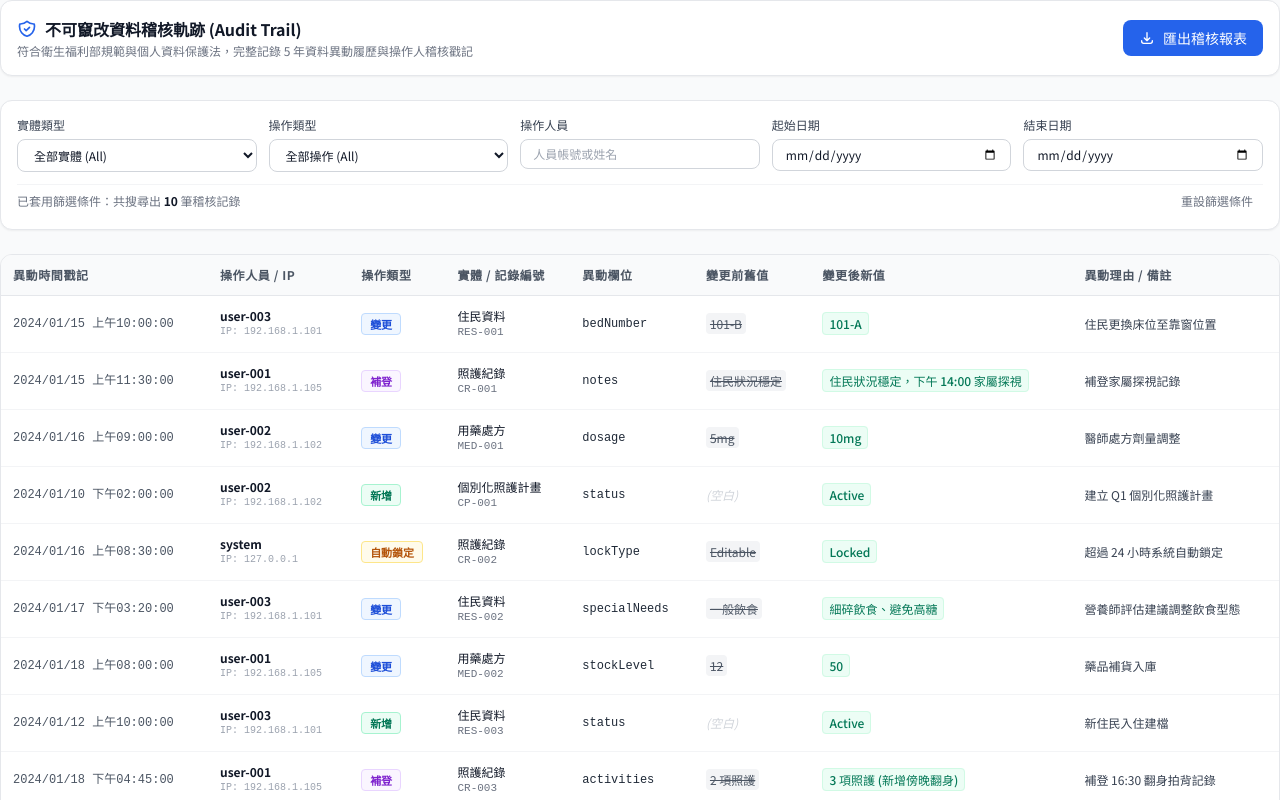
Test: AuditTrailView Integration Tests › filters audit trail entries by action type and resets filters
The width and height of the screenshot is (1280, 800).
Select "刪除 (Delete)" in the dropdown labelled "操作類型" at {"x": 388, "y": 156}, box [269,139,508,172]
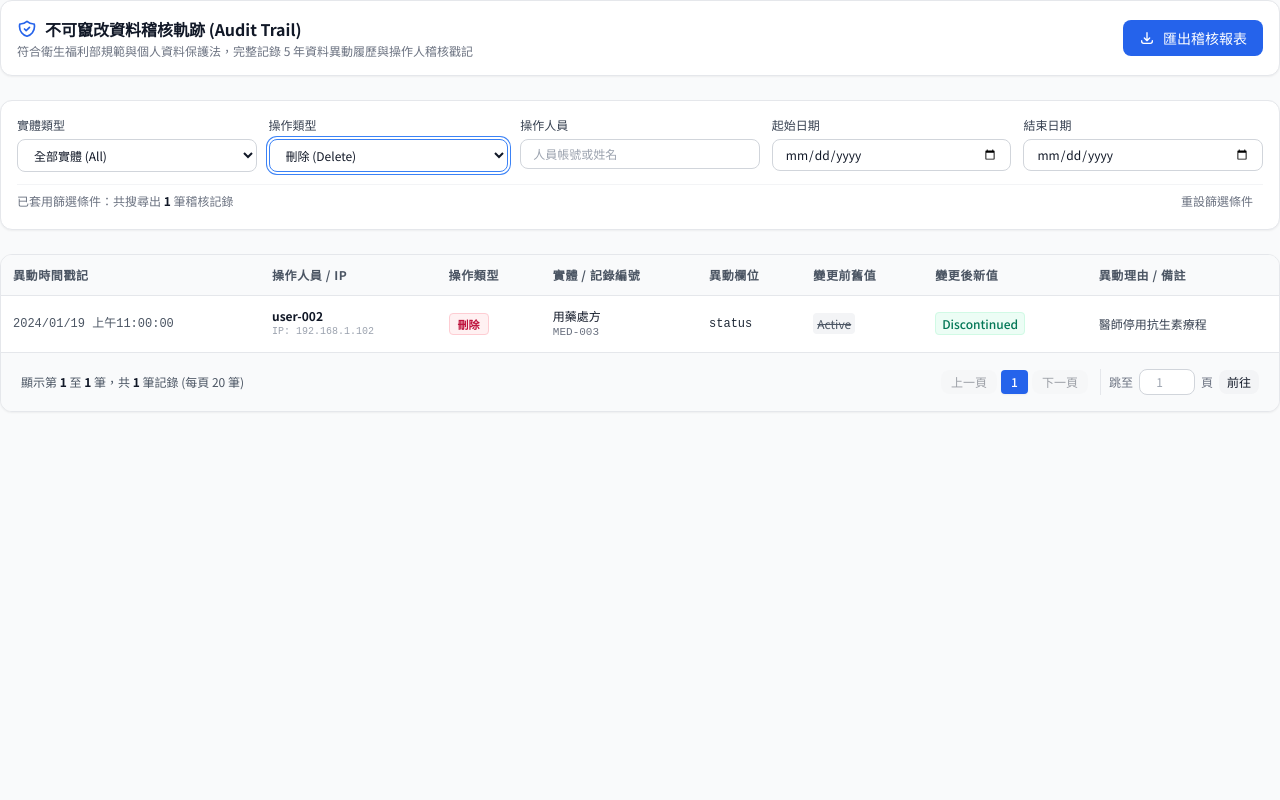
Expected: the text "刪除" is shown, [449,313,489,335]
// Reset filters
Click the button "重設篩選條件" at {"x": 1217, "y": 201}, box [1171,189,1263,213]
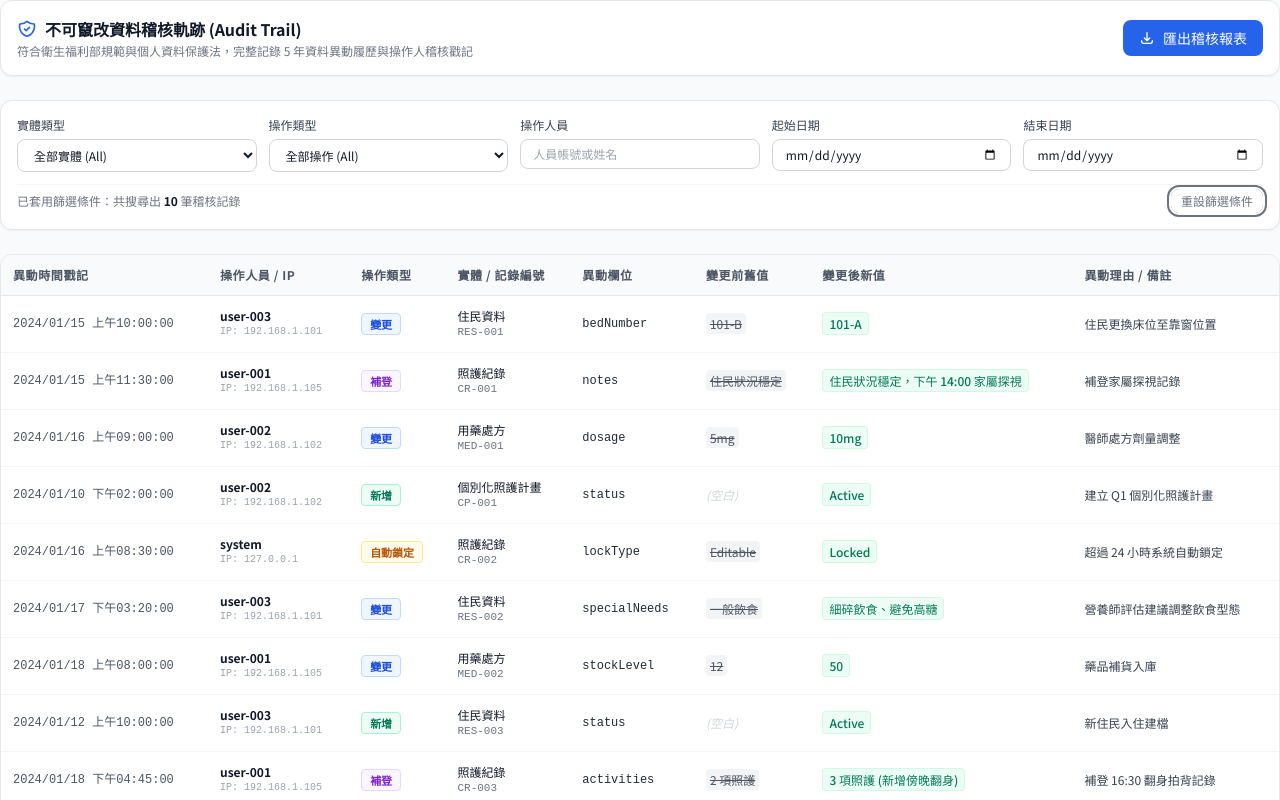
Expected: the text "新增" in the row of "2024/01/10 下午02:00:00" is shown, [370,487,392,503]
